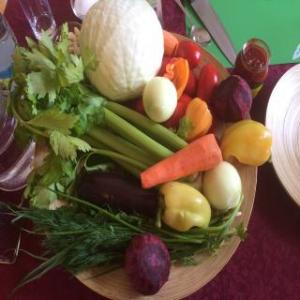beet: (120, 228, 174, 296)
bell_pepper: (155, 178, 217, 240), (218, 122, 282, 170)
cabbage: (80, 1, 166, 103)
carrot: (140, 134, 222, 188)
garlic: (69, 24, 84, 58)
onion: (205, 156, 243, 212), (144, 72, 178, 124)
tomato: (197, 60, 219, 103), (173, 34, 200, 66)
